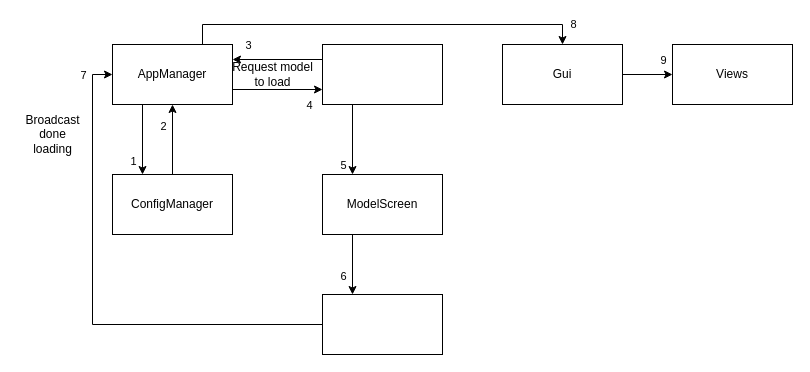
The diagram is 810 pixels wide and 372 high, and some of its shapes have lost their labels. The shapes that lost their labels are listed below. From the top down, each one's centre as x and y in pixels, then its label:
the point at 382,74: MainScreen
the point at 382,324: Model
